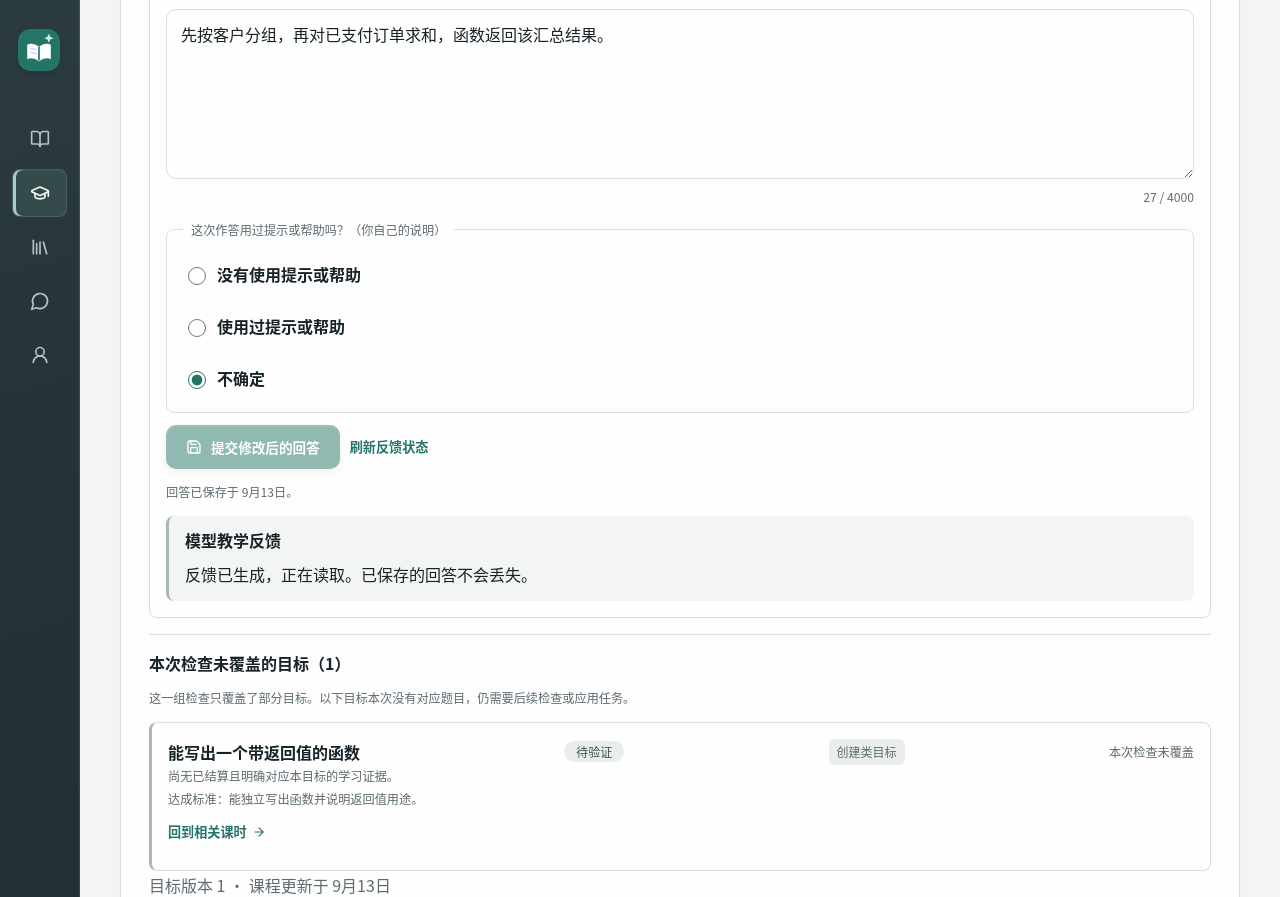
course text application task › hides a previously visible application when its receipt authorization is revoked
The width and height of the screenshot is (1280, 897).
(page scrolled)
Expected: the text box showing "先按客户分组，再对已支付订单求和，函数返回该汇总结果。" is shown, [166,9,1194,179]
Click the button "刷新反馈状态" at (389, 447), box [350,425,428,469]
(page scrolled)
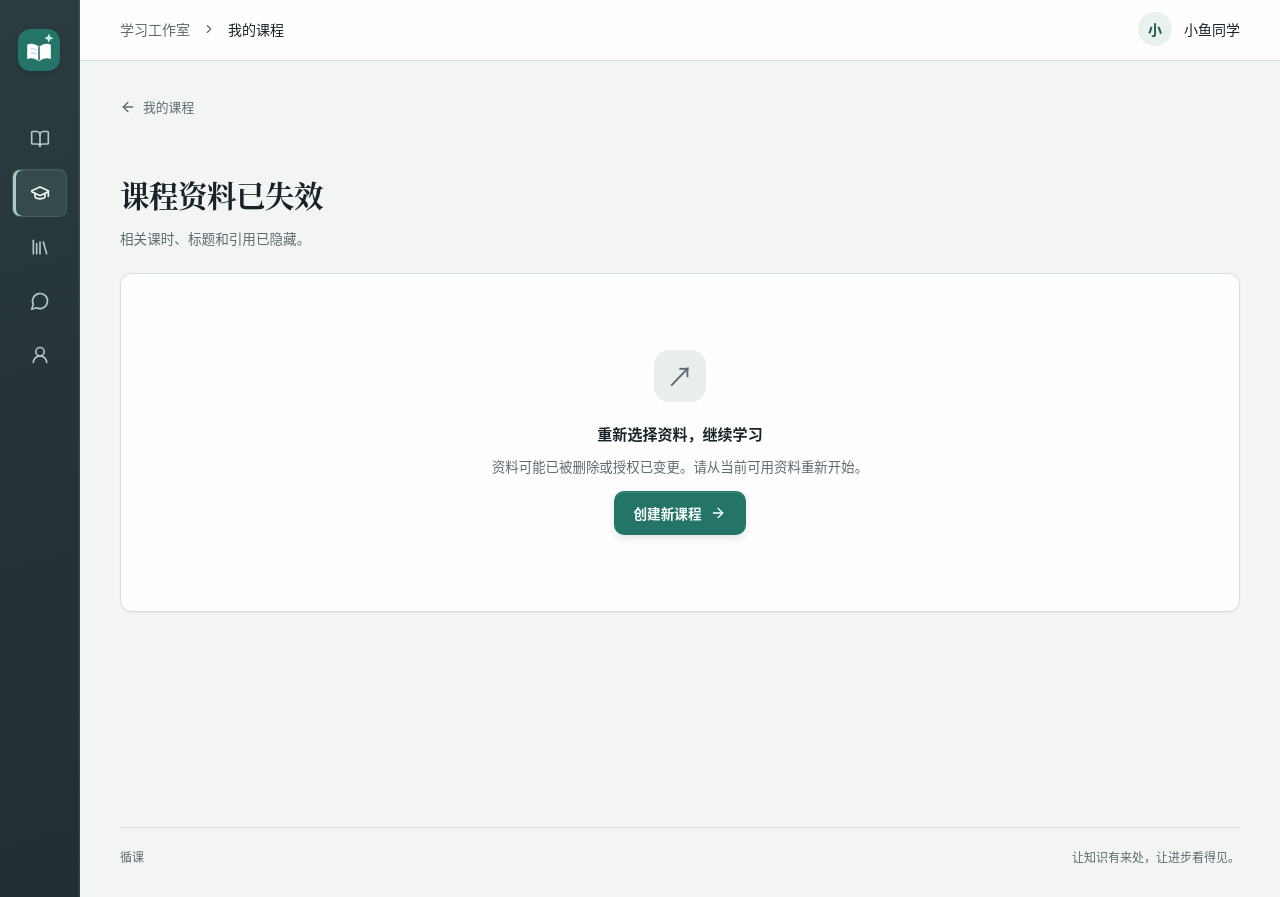
Expected: the field showing "先按客户分组，再对已支付订单求和，函数返回该汇总结果。" is not shown
Result: the heading "课程资料已失效" is shown at [120,172,323,216]
